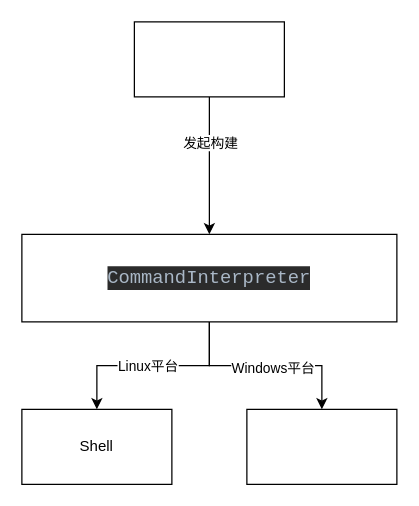
Some shapes in this 419 by 506 pixel diagram are drawn without their labels. Here are the shapes that lost their labels. From the top down, the box of each, then its label:
(133, 21, 284, 97): Build
(246, 408, 397, 484): FileBatch(Win平台)
